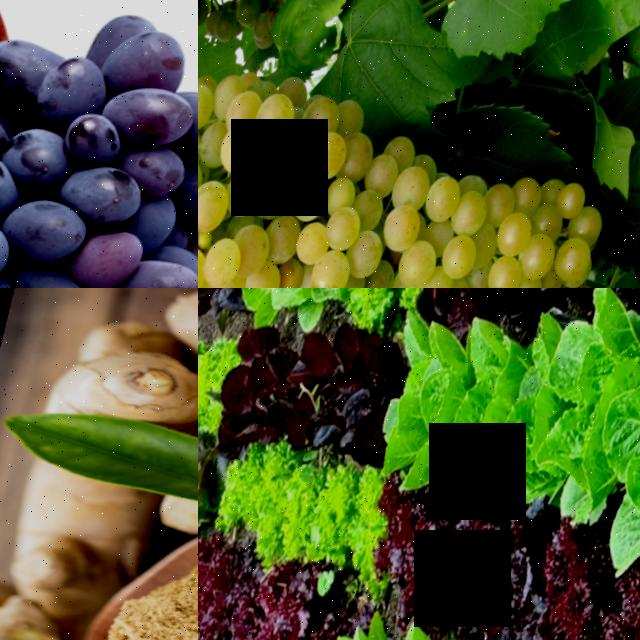ginger: (0, 578, 86, 640)
grapes: (0, 0, 198, 288), (339, 128, 627, 288), (198, 59, 376, 288)
lettuce: (436, 318, 559, 509), (531, 309, 640, 513), (382, 331, 482, 480), (308, 462, 395, 565), (244, 450, 324, 558), (198, 328, 242, 438), (353, 288, 451, 335), (241, 288, 340, 319)
